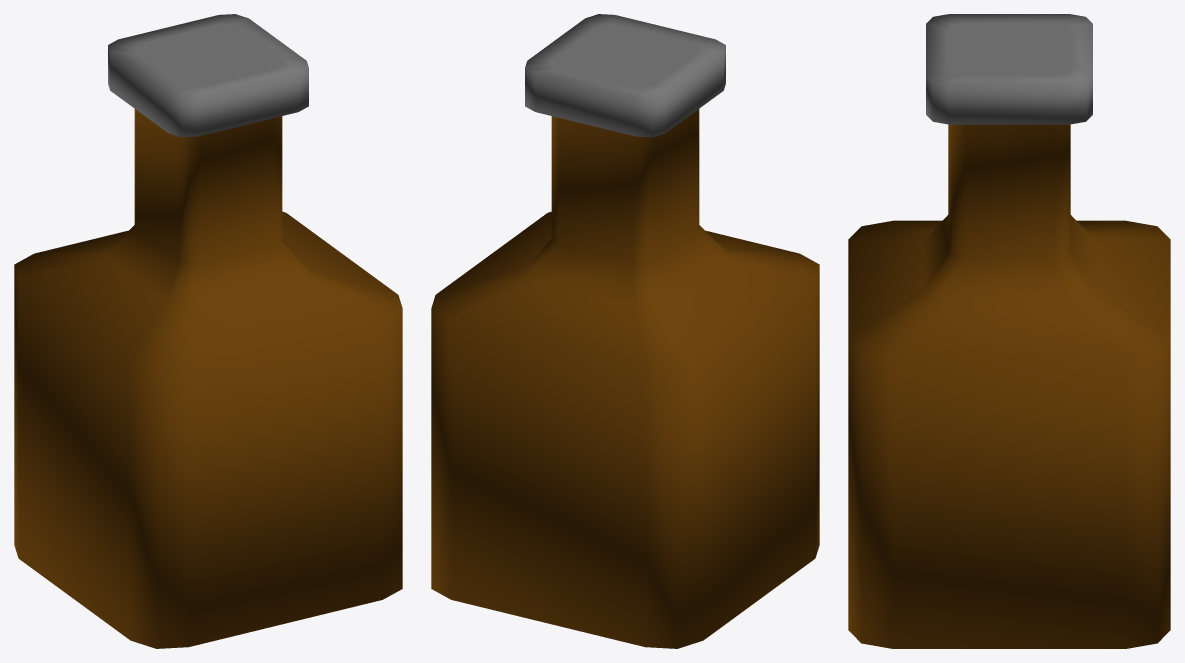
File: GarrafaWisky.fbx
3 views of the same model, side by side, from view 1: azimuth 30°, elevation 25°; view 2: azimuth 150°, elevation 25°; view 3: azimuth 270°, elevation 25° (orthographic). The views are drawn at different scales.
Parts seen in each view (by area): view 1: GarrafaDeWhisky; view 2: GarrafaDeWhisky; view 3: GarrafaDeWhisky.
Part boxes in pixels (x1,y1,x2,y2): GarrafaDeWhisky: (14, 14, 402, 648); GarrafaDeWhisky: (431, 14, 819, 648); GarrafaDeWhisky: (848, 14, 1170, 648).
Size of the model in its own units: 20 by 36.41 by 20.
